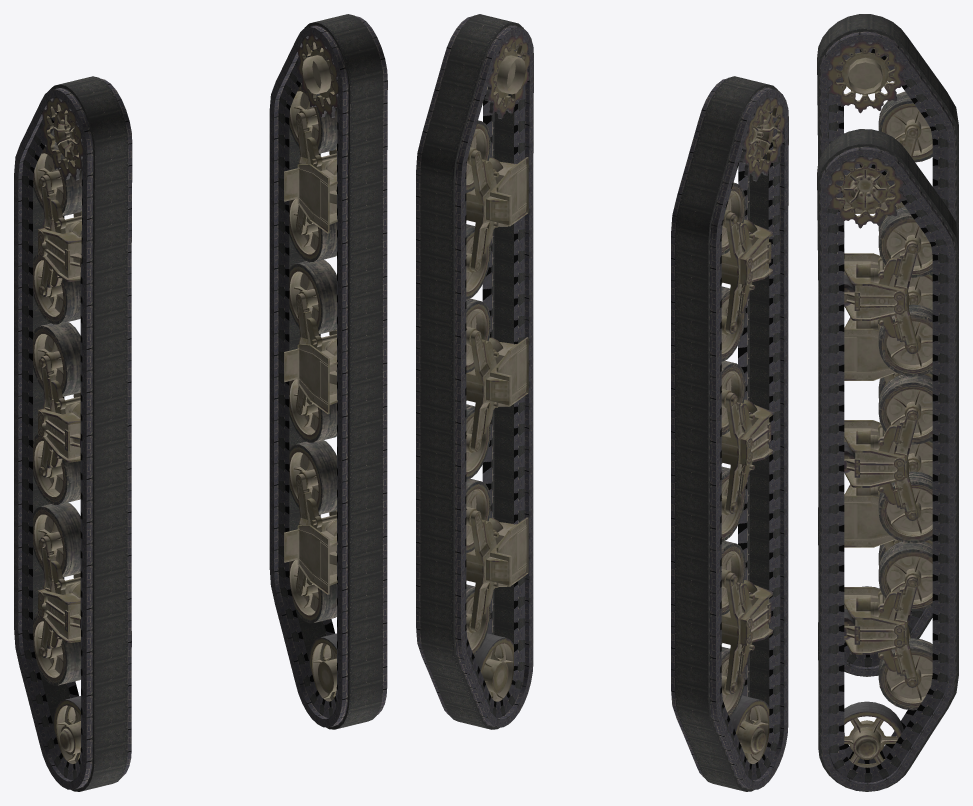
Rendered from Chassis.glb.
3 views of the same model, side by side, from view 1: azimuth 30°, elevation 25°; view 2: azimuth 150°, elevation 25°; view 3: azimuth 270°, elevation 25° (orthographic). The views are drawn at different scales.
Visible parts, largest first — view 1: set_4_group_0, set_5_group_0, set_1_group_0, set_3_group_0, set_0_group_0, set_2_group_0; view 2: set_4_group_0, set_5_group_0, set_1_group_0, set_3_group_0, set_0_group_0, set_2_group_0; view 3: set_5_group_0, set_1_group_0, set_3_group_0, set_4_group_0, set_0_group_0, set_2_group_0.
Boxes of the visible parts, x1,y1,x2,y2 form: set_4_group_0: (14, 76, 132, 791); set_5_group_0: (269, 14, 387, 729); set_1_group_0: (284, 30, 338, 701); set_3_group_0: (33, 98, 85, 763); set_0_group_0: (296, 293, 336, 414); set_2_group_0: (39, 355, 80, 477); set_4_group_0: (671, 76, 788, 791); set_5_group_0: (416, 14, 533, 729); set_1_group_0: (466, 31, 532, 701); set_3_group_0: (721, 97, 787, 763); set_0_group_0: (470, 330, 509, 451); set_2_group_0: (725, 392, 749, 513); set_5_group_0: (817, 129, 958, 791); set_1_group_0: (823, 157, 932, 767); set_3_group_0: (823, 37, 932, 589); set_4_group_0: (817, 14, 958, 676); set_0_group_0: (873, 408, 918, 520); set_2_group_0: (873, 293, 918, 383).
Size of the model in its own units: 2.47 by 5.38 by 1.07.
Materials: 6 (6 with a texture image).
